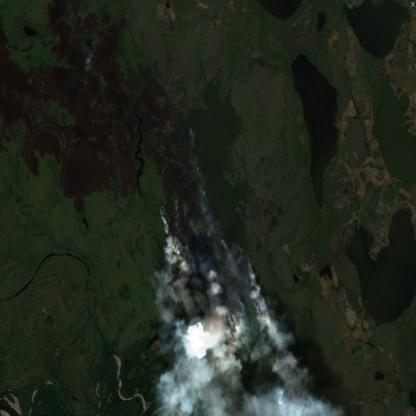fire: (155, 198, 188, 262), (211, 235, 256, 276), (187, 121, 205, 196)
